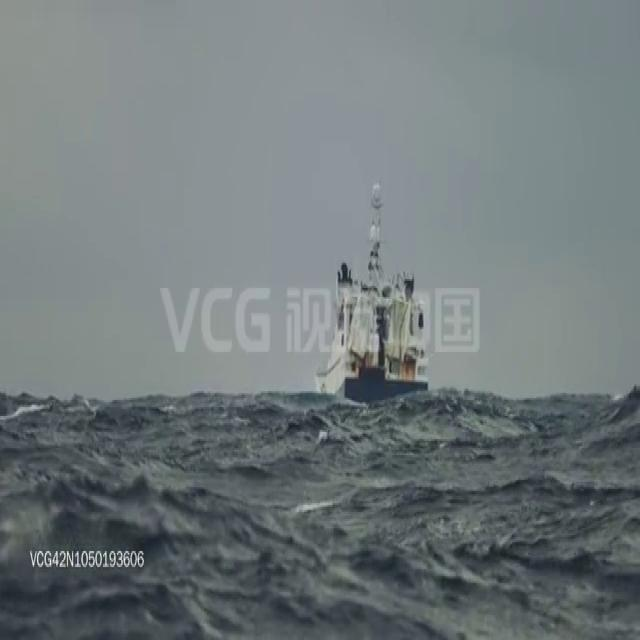houseboat: (314, 185, 427, 402)
